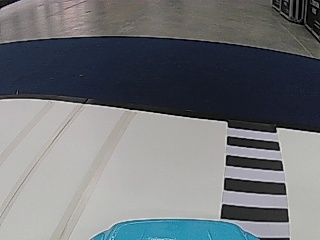CrossWalk: (220, 121, 289, 222)
